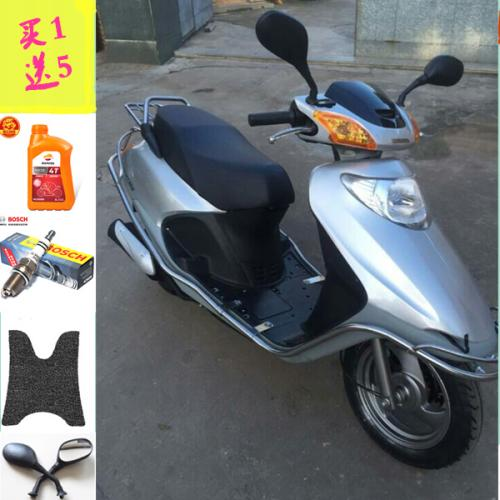motor: (131, 19, 485, 459)
